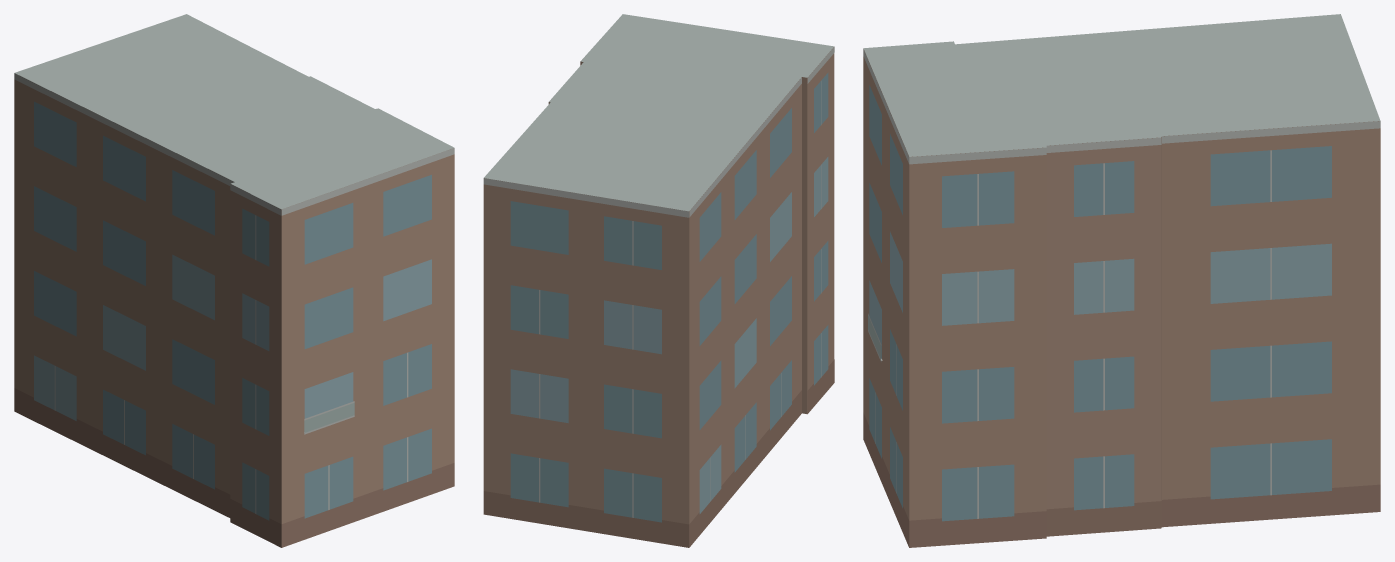
File: survey-upis-32495566.glb
3 views of the same model, side by side, from view 1: azimuth 30°, elevation 25°; view 2: azimuth 150°, elevation 25°; view 3: azimuth 270°, elevation 25° (orthographic). The views are drawn at different scales.
Visible parts, largest first — view 1: survey-upis-32495566.tmp; view 2: survey-upis-32495566.tmp; view 3: survey-upis-32495566.tmp.
Part boxes in pixels (x1,y1,x2,y2): survey-upis-32495566.tmp: (14, 14, 454, 547); survey-upis-32495566.tmp: (483, 14, 834, 547); survey-upis-32495566.tmp: (863, 14, 1380, 547).
Size of the model in its own units: 10.05 by 12.8 by 15.36.
